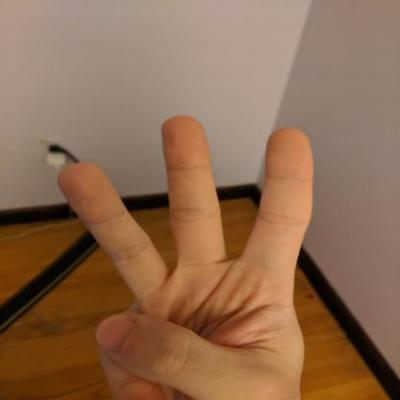hand: (52, 110, 319, 399)
